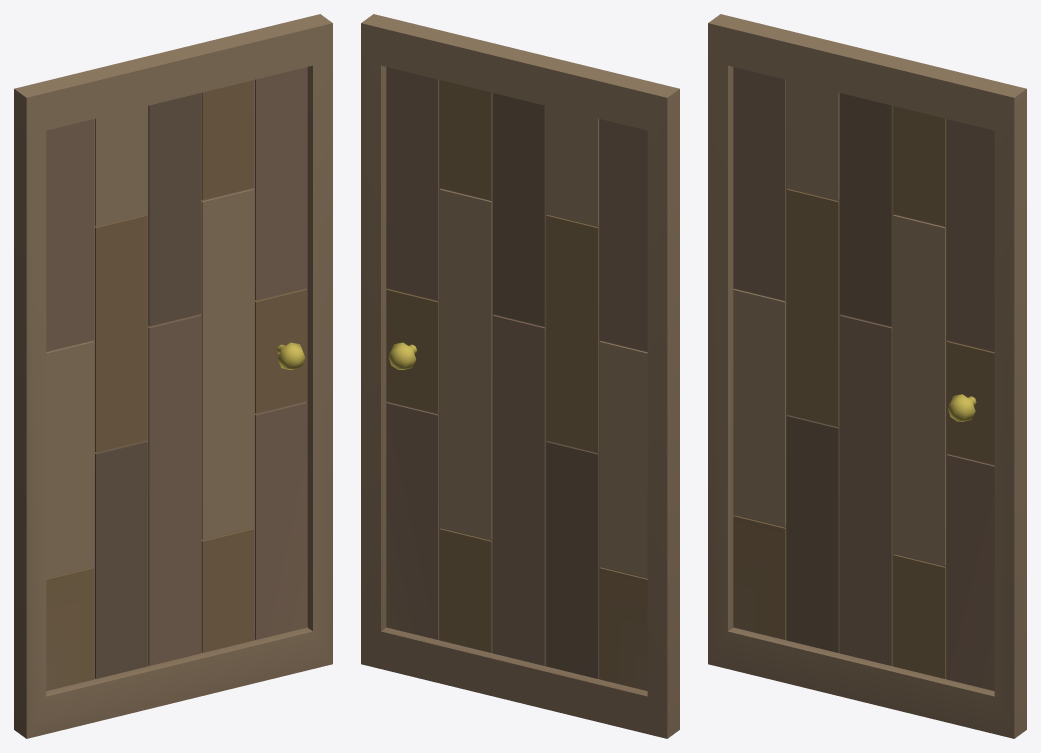
The model's file is door.gltf.
3 views of the same model, side by side, from view 1: azimuth 30°, elevation 25°; view 2: azimuth 150°, elevation 25°; view 3: azimuth 330°, elevation 25° (orthographic).
Parts seen in each view (by area): view 1: Door; view 2: Door; view 3: Door.
Part boxes in pixels (bbox=[...]): Door: bbox=[14, 14, 332, 738]; Door: bbox=[361, 14, 679, 738]; Door: bbox=[708, 14, 1026, 738].
Bounding box in the file's own units: 1 × 2 × 0.2117.
